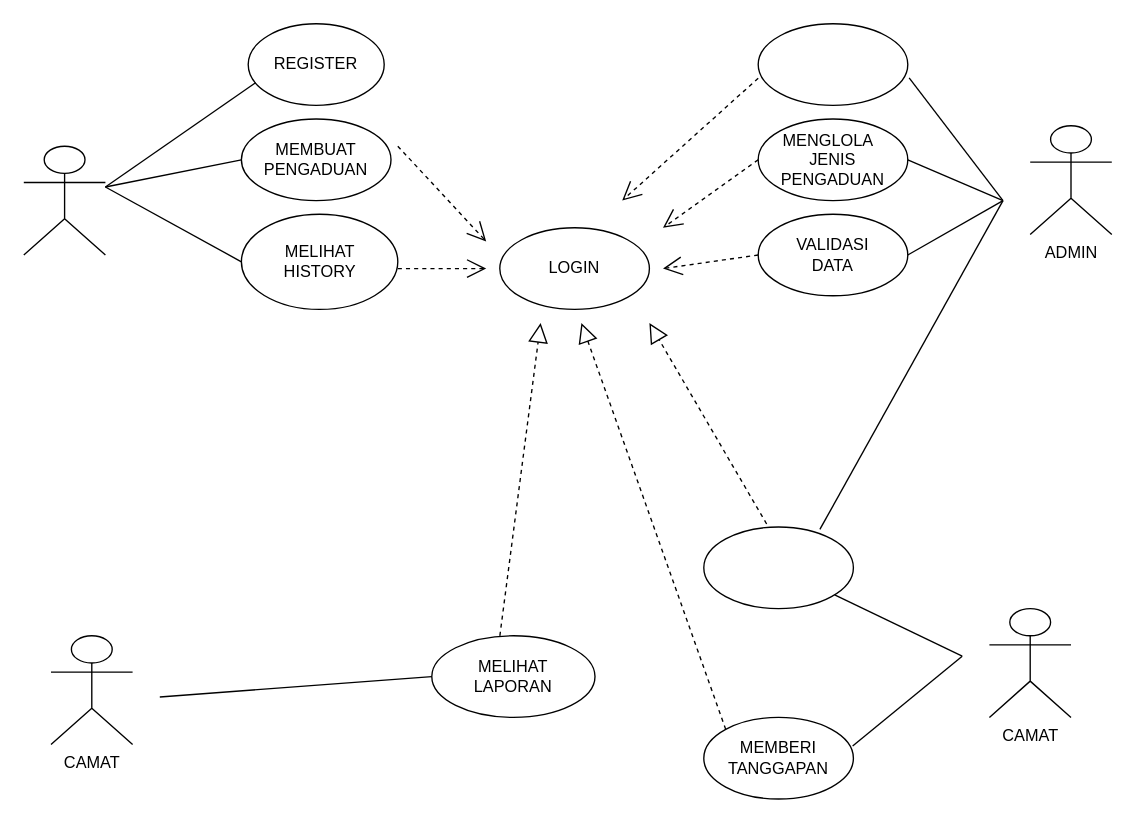
This 1136x823 diagram has some shape labels left out. The shapes that lost their labels are listed below. From the top down, each one's box as (x1, y1, x2, y2) in pixels, then its label:
(757, 22, 908, 105): MENGLOLA USER
(22, 145, 105, 255): WARGA
(702, 526, 853, 609): MELIHAT LIST PENGADUANN
